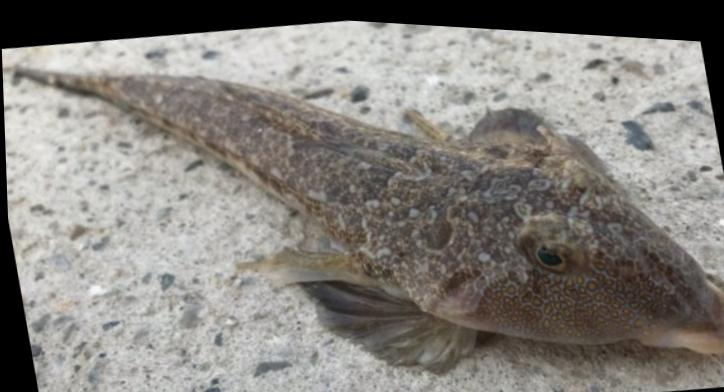fish: (9, 67, 724, 370)
